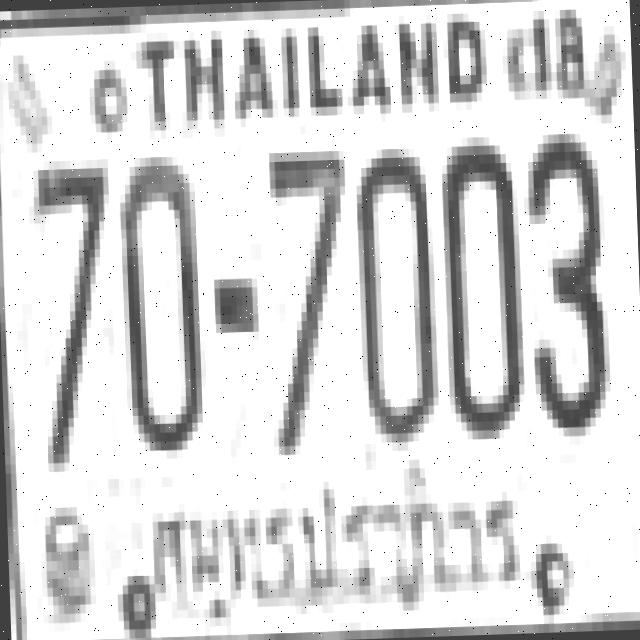0: (348, 138, 434, 434), (434, 136, 520, 432), (114, 151, 200, 447)
3: (520, 124, 606, 428)
7: (262, 142, 348, 446), (30, 158, 110, 462), (262, 142, 346, 366)
SamutPrakan: (140, 468, 530, 634)
